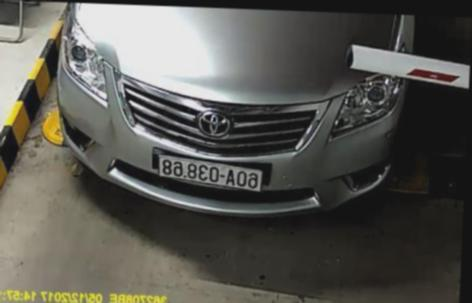License_Plate: (157, 158, 264, 196)
